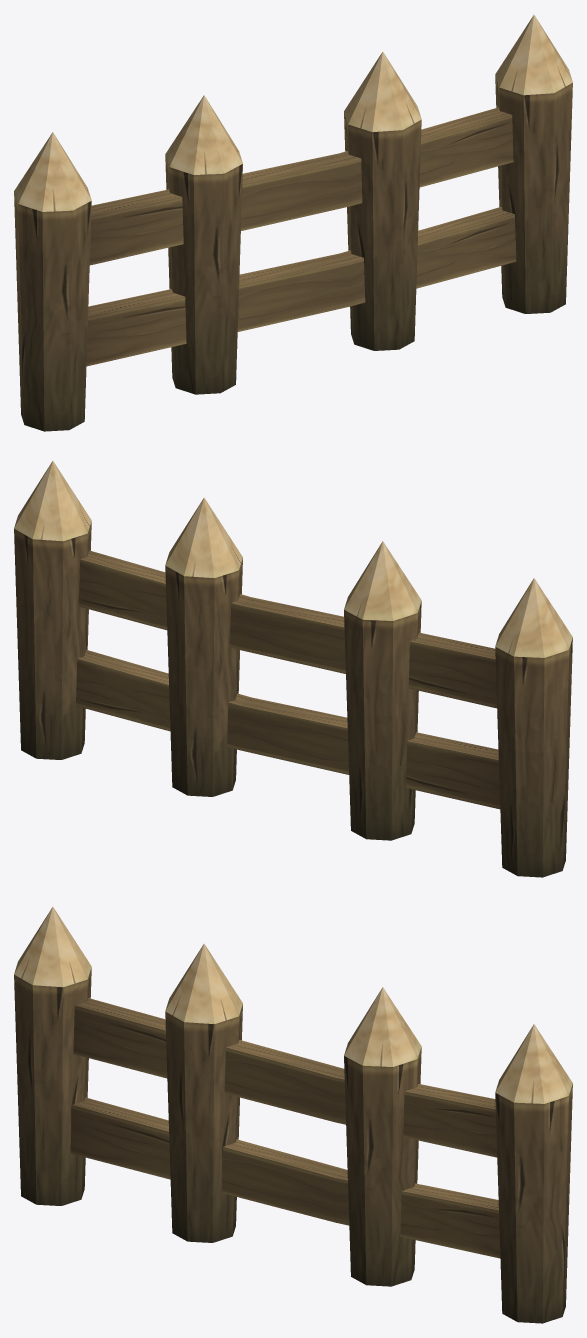
File: wooden_fence_47.fbx
3 renders of one model, top to bottom at view 1: azimuth 30°, elevation 25°; view 2: azimuth 150°, elevation 25°; view 3: azimuth 330°, elevation 25°, orthographic.
Visible parts, largest first — view 1: wooden_fence_47:Mesh; view 2: wooden_fence_47:Mesh; view 3: wooden_fence_47:Mesh.
Part boxes in pixels (x1,y1,x2,y2): wooden_fence_47:Mesh: (14, 15, 572, 431); wooden_fence_47:Mesh: (14, 461, 572, 877); wooden_fence_47:Mesh: (14, 907, 572, 1323).
Bounding box in the file's own units: 7.29 × 3.62 × 0.9226.
